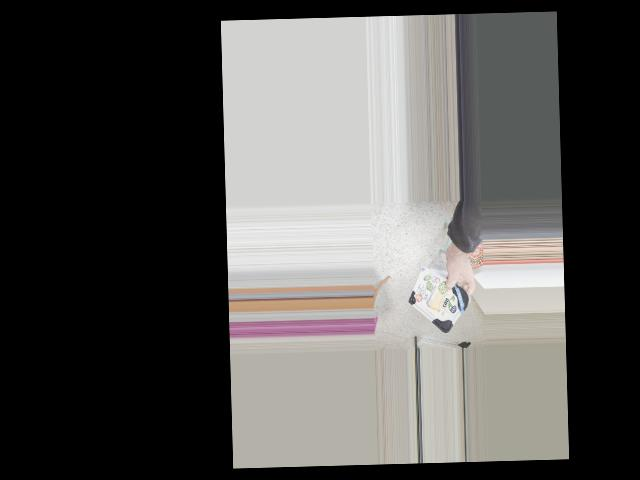cheese: (401, 270, 473, 332)
